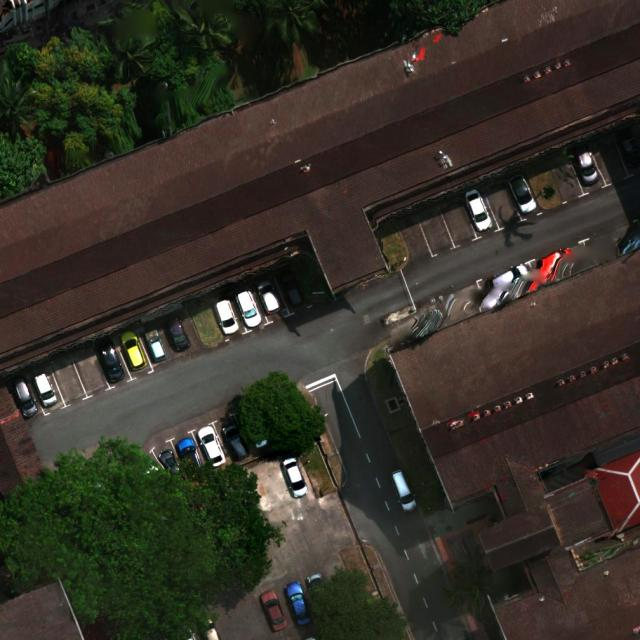Tree: (0, 433, 286, 640), (236, 369, 328, 458), (148, 50, 237, 137), (304, 567, 406, 640), (74, 86, 142, 154), (387, 0, 491, 37), (0, 126, 49, 202), (36, 74, 91, 137), (171, 0, 237, 52), (3, 36, 71, 83), (262, 0, 331, 46), (69, 26, 114, 83), (110, 34, 160, 82), (0, 75, 37, 125), (466, 576, 500, 618), (439, 575, 473, 616), (448, 544, 487, 579), (63, 131, 93, 172), (233, 0, 265, 19), (586, 556, 600, 566), (583, 549, 595, 560)
